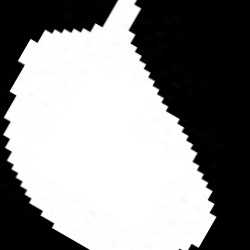spot: (5, 1, 215, 249)
